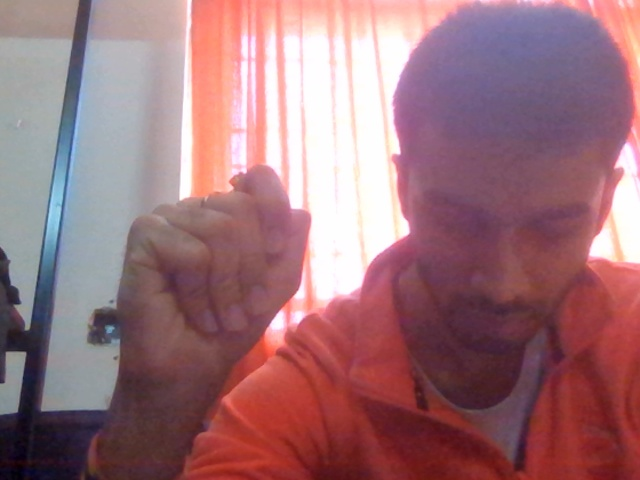T: (91, 154, 349, 428)
